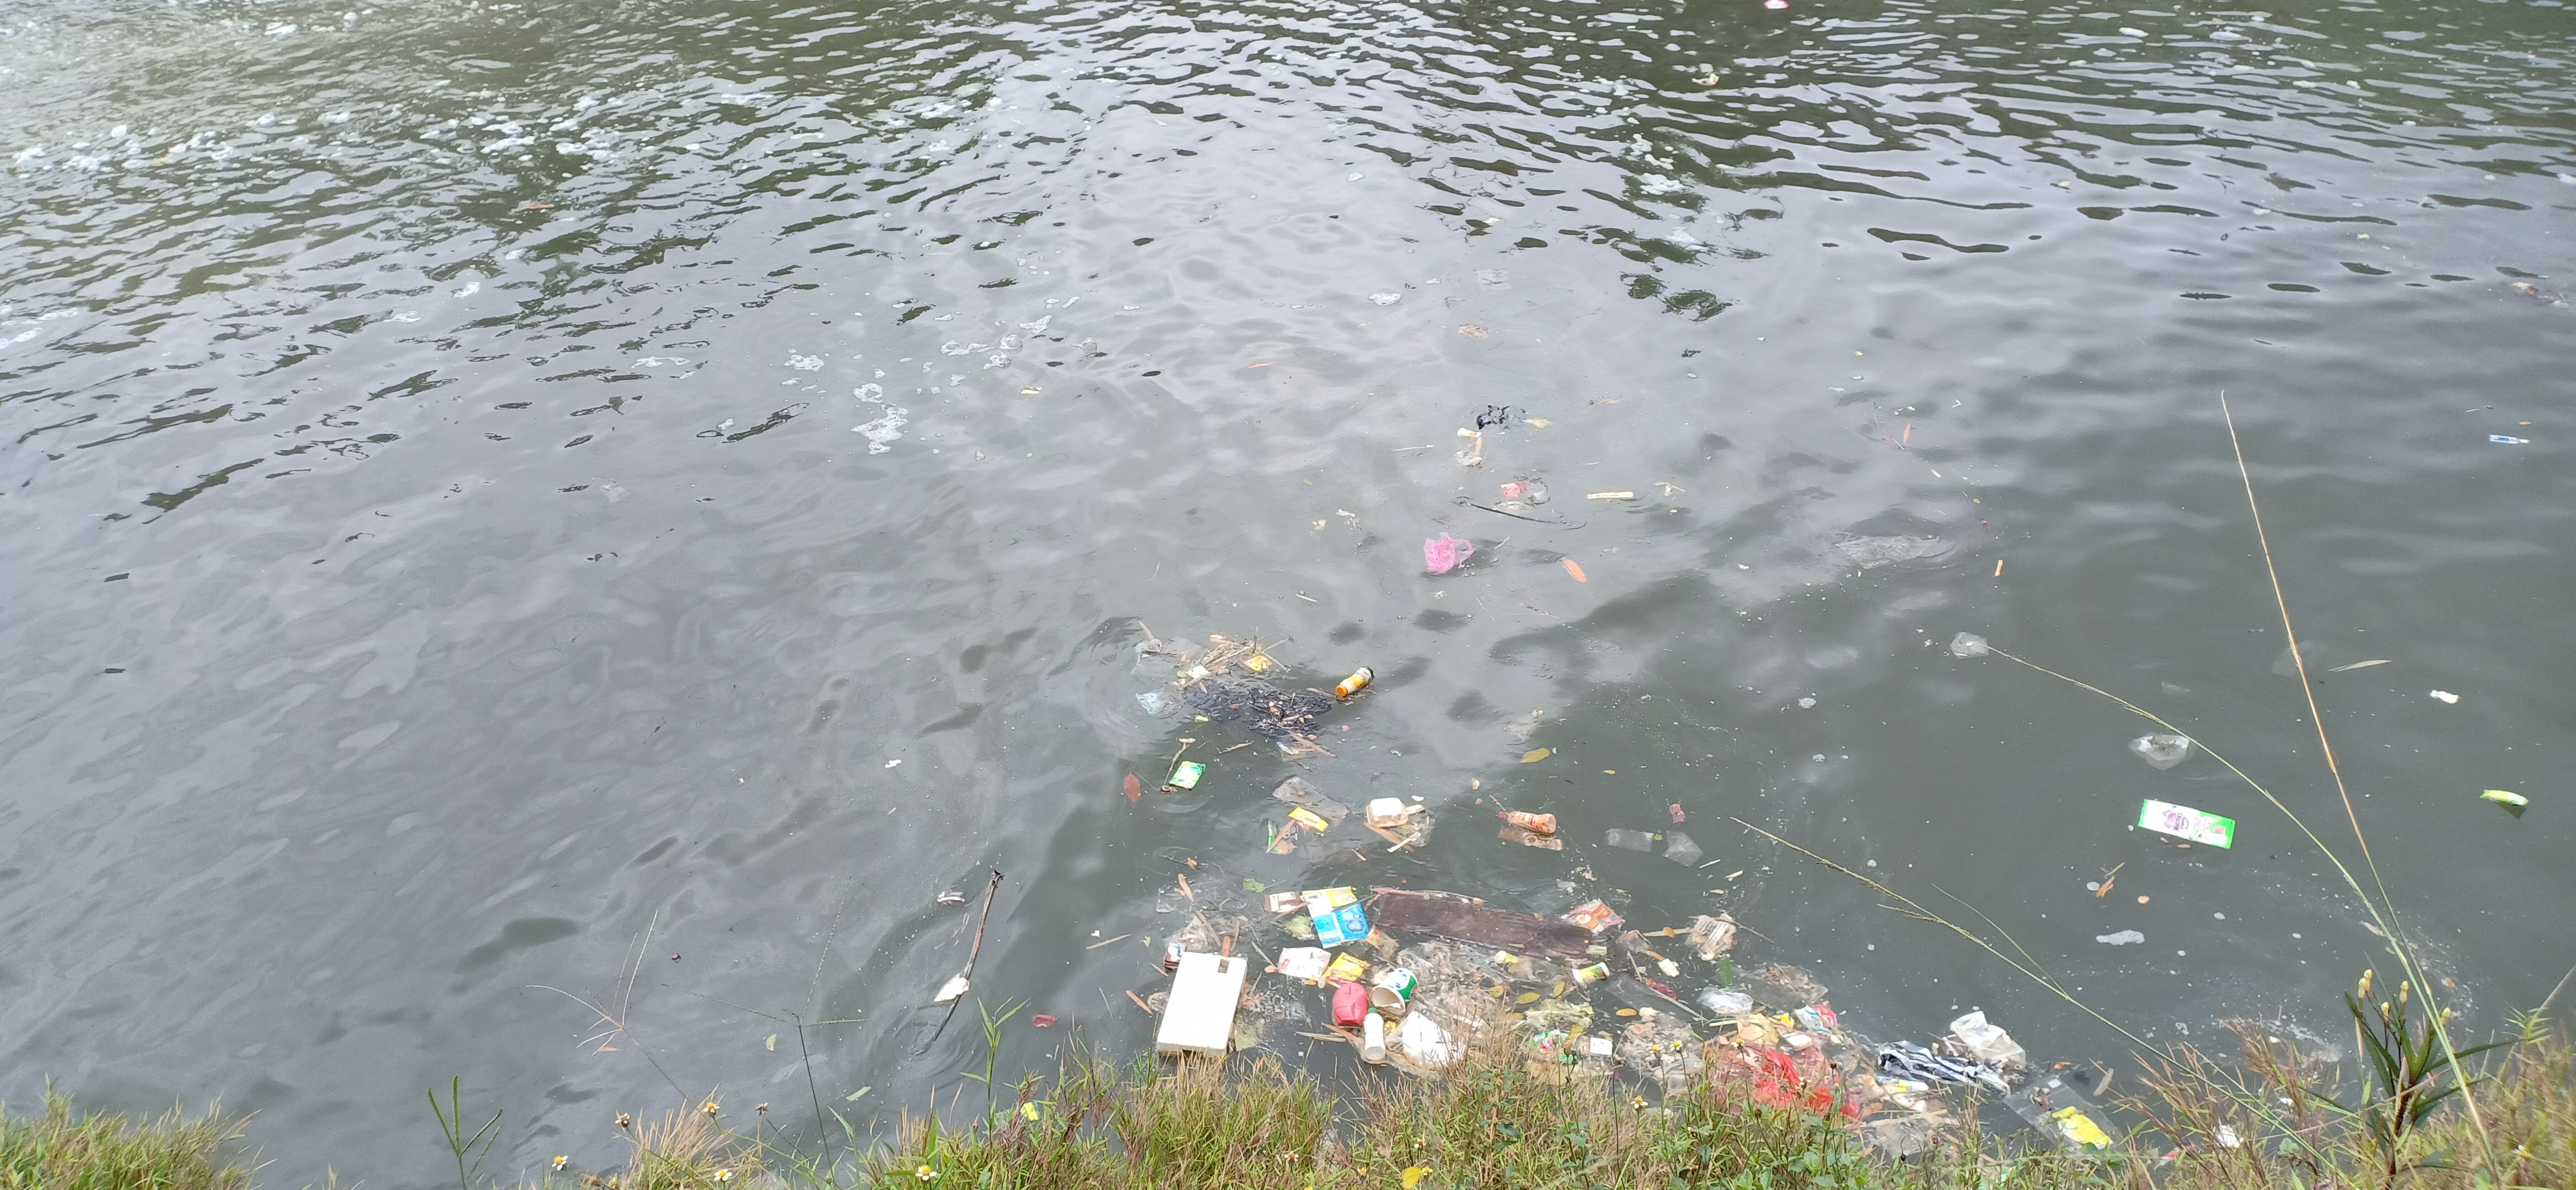Plastic Bottle: (1505, 810, 1556, 835), (1364, 1006, 1387, 1060), (1336, 666, 1373, 697)
